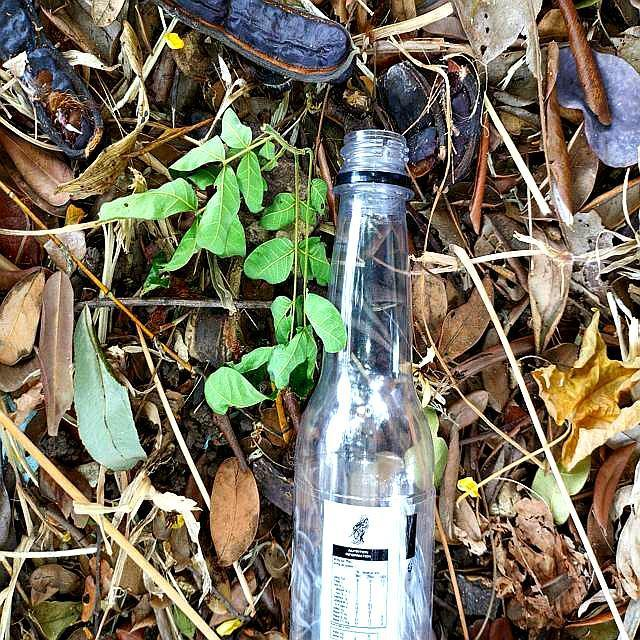Non-biodegradable: (287, 128, 438, 638)
